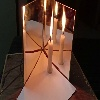fire: (50, 10, 54, 42)
